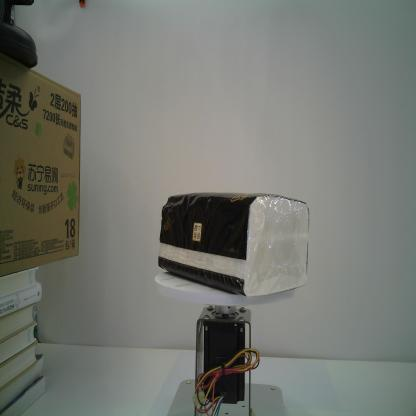Tissue: (158, 192, 312, 298)
